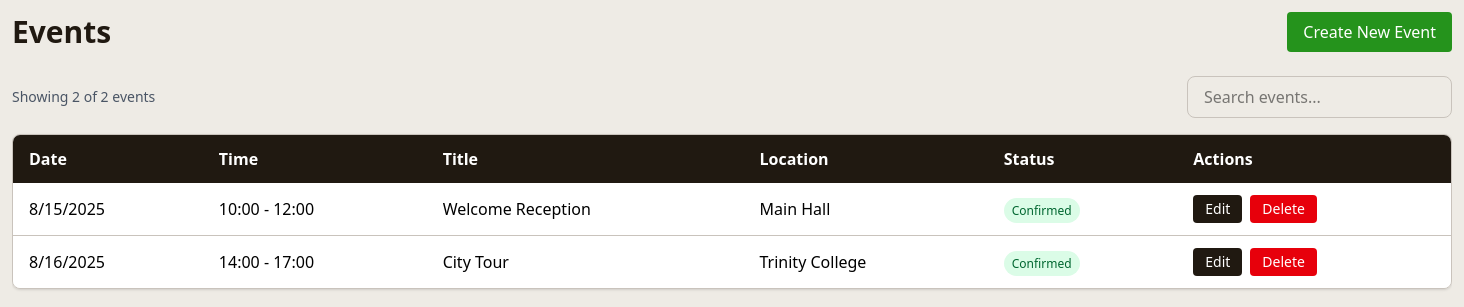
Test case: Admin Events List Page › should delete an event when delete button is clicked
Expected: the text "Welcome Reception" is shown, [427,183,744,236]
Click the button "Delete" in the row of "8/15/2025".
click(1284, 209)  # box [1250,195,1317,223]
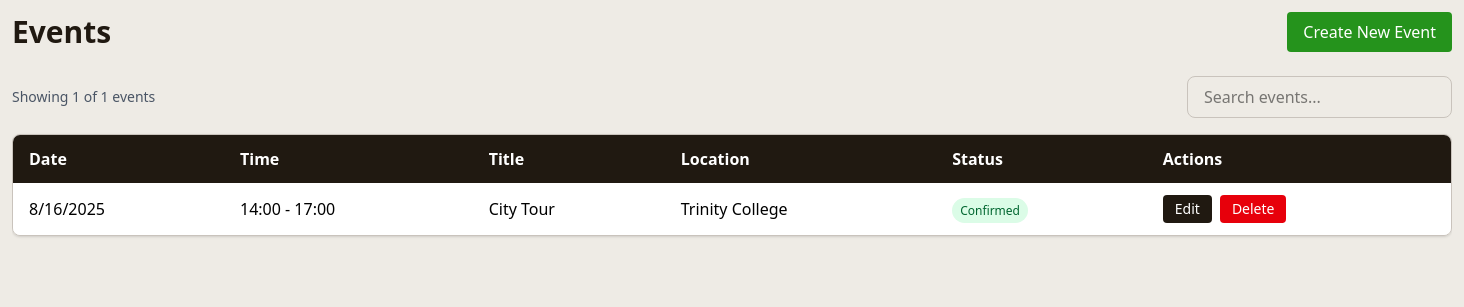
Expected: the text "Welcome Reception" is gone
Expected: the text "City Tour" is shown, [473,183,665,235]
